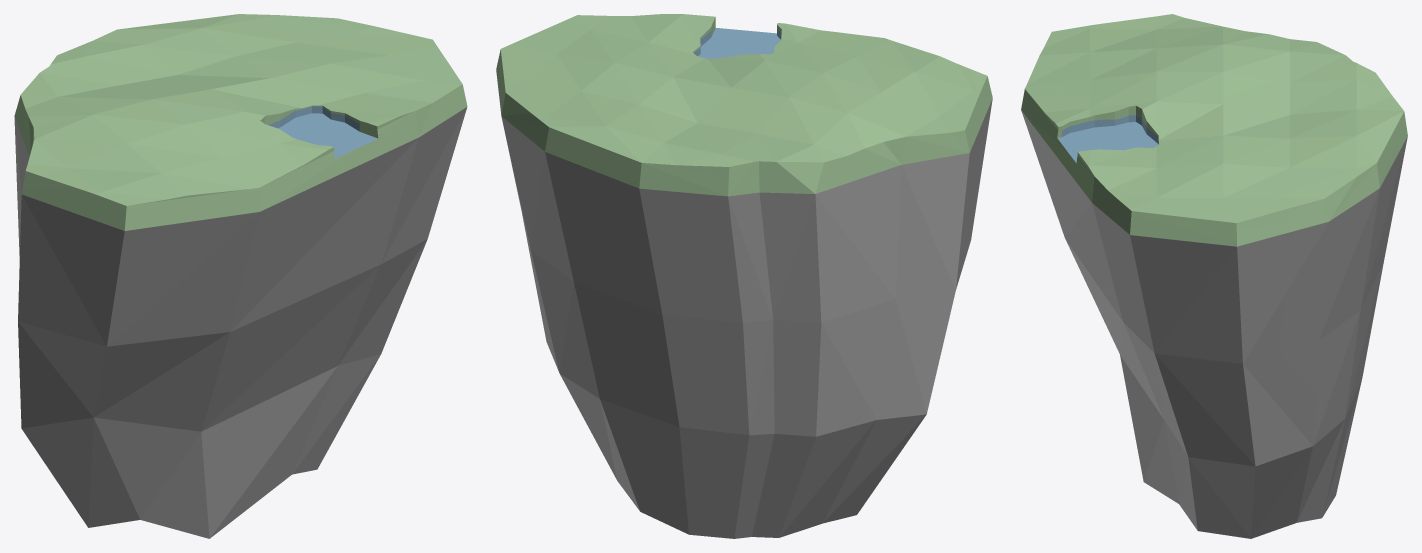
File: Ground.dae
3 views of the same model, side by side, from view 1: azimuth 30°, elevation 25°; view 2: azimuth 150°, elevation 25°; view 3: azimuth 270°, elevation 25° (orthographic). The views are drawn at different scales.
Parts seen in each view (by area): view 1: Ground; view 2: Ground; view 3: Ground.
Part boxes in pixels (box(x1,y1,x2,y2)): Ground: box(14, 14, 467, 538); Ground: box(496, 14, 992, 538); Ground: box(1021, 14, 1407, 538).
Bounding box in the file's own units: 32.67 × 25.06 × 28.78.
